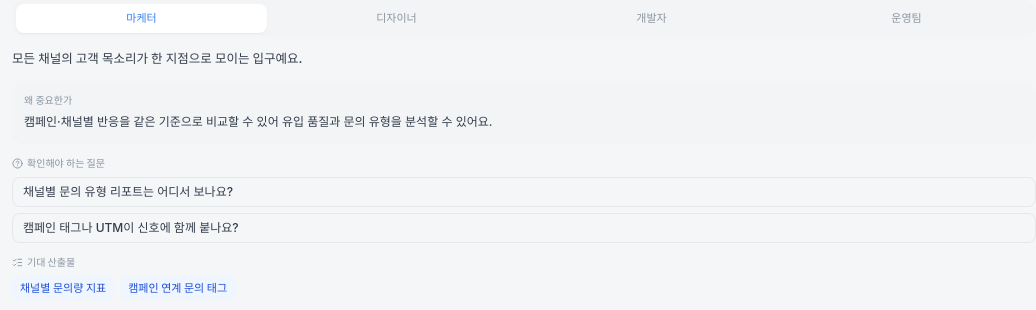
it: RolePerspectiveTabs › 역할 탭을 바꾸면 역할별 설명이 표시된다
The width and height of the screenshot is (1036, 310).
Expected: the text "모든 채널의 고객 목소리가 한 지점으로 모이는 입구예요." is shown, [12, 50, 302, 66]
Click the tab "개발자" at (652, 18), box [526, 4, 777, 32]
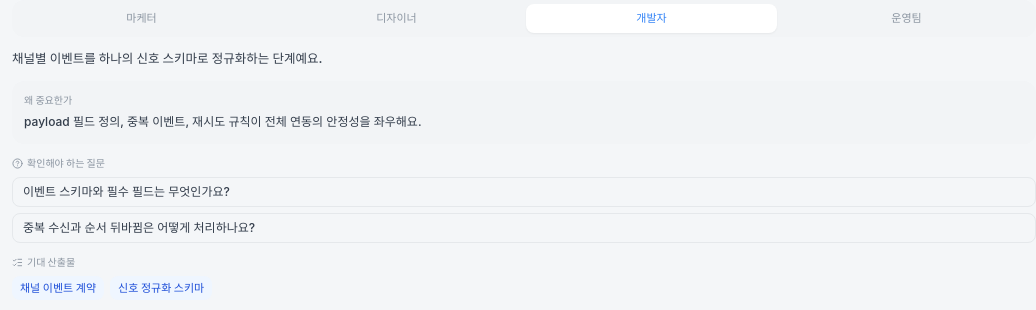
Expected: the text "채널별 이벤트를 하나의 신호 스키마로 정규화하는 단계예요." is shown, [12, 50, 322, 66]
Expected: the list item "이벤트 스키마와 필수 필드는 무엇인가요?" is shown, [12, 176, 1035, 206]
Click the tab "운영팀" at (906, 18), box [781, 4, 1032, 32]
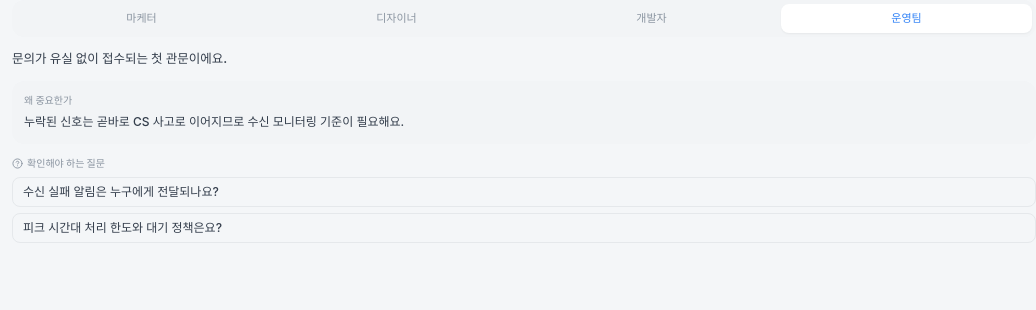
Expected: the text "문의가 유실 없이 접수되는 첫 관문이에요." is shown, [12, 50, 227, 66]
